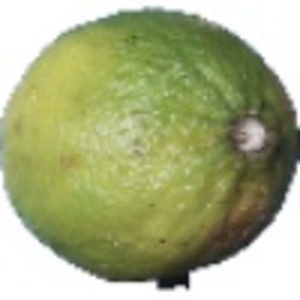limão: (1, 6, 300, 289)
